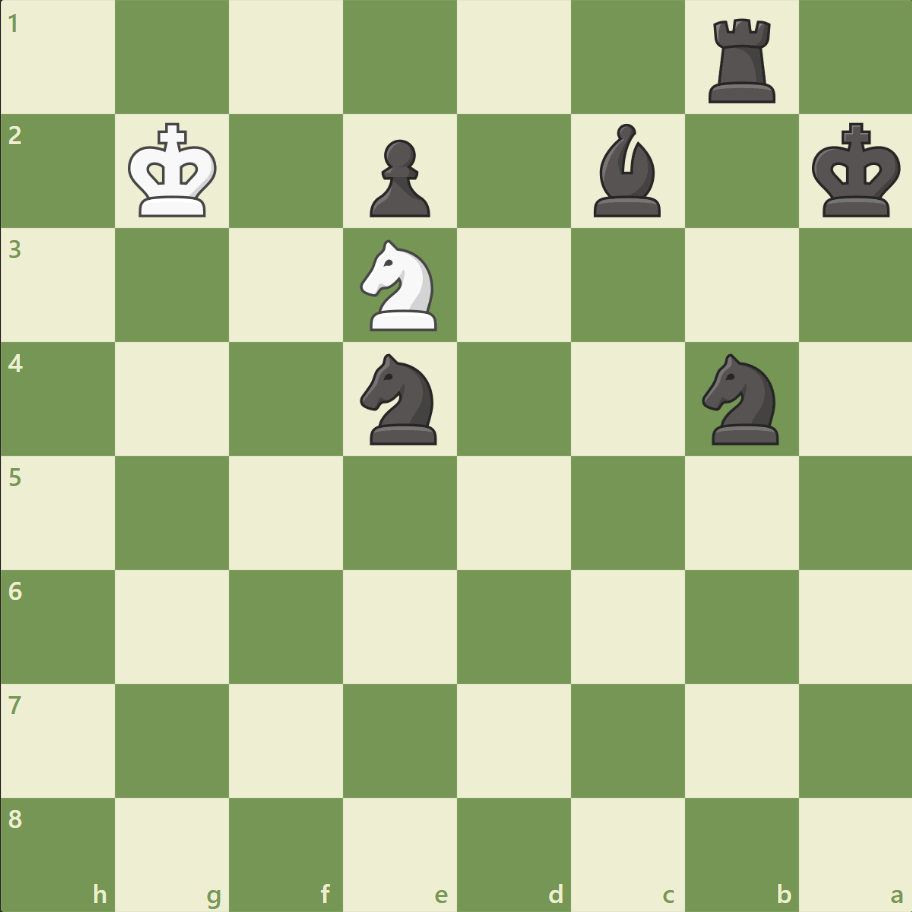K: (124, 117, 224, 225)
N: (351, 234, 449, 337)
b: (585, 120, 669, 222)
k: (806, 117, 906, 225)
n: (351, 348, 449, 450), (692, 348, 789, 450)
p: (361, 132, 435, 223)
r: (700, 12, 783, 109)
